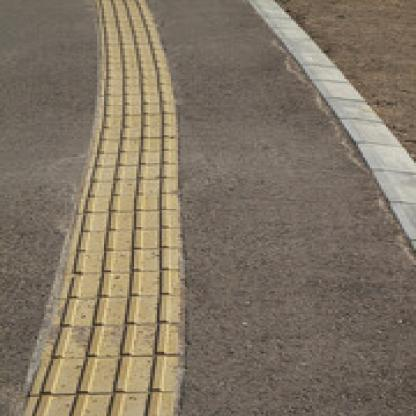podotacti: (0, 0, 233, 416)
